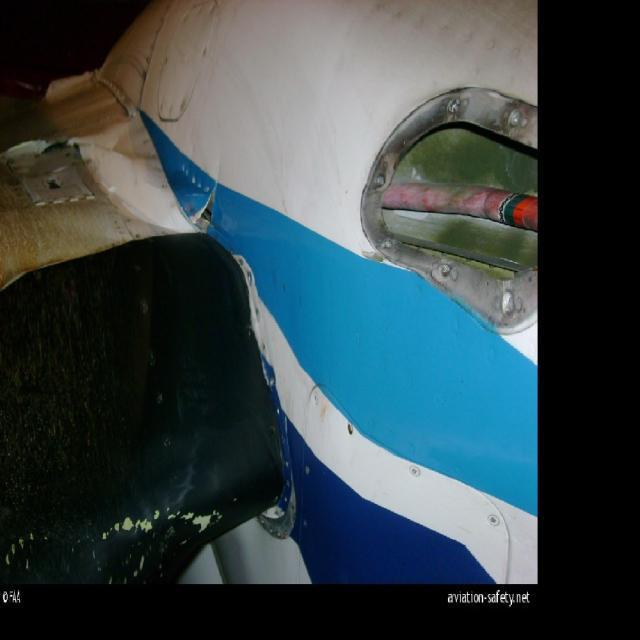crack: (189, 181, 223, 230)
